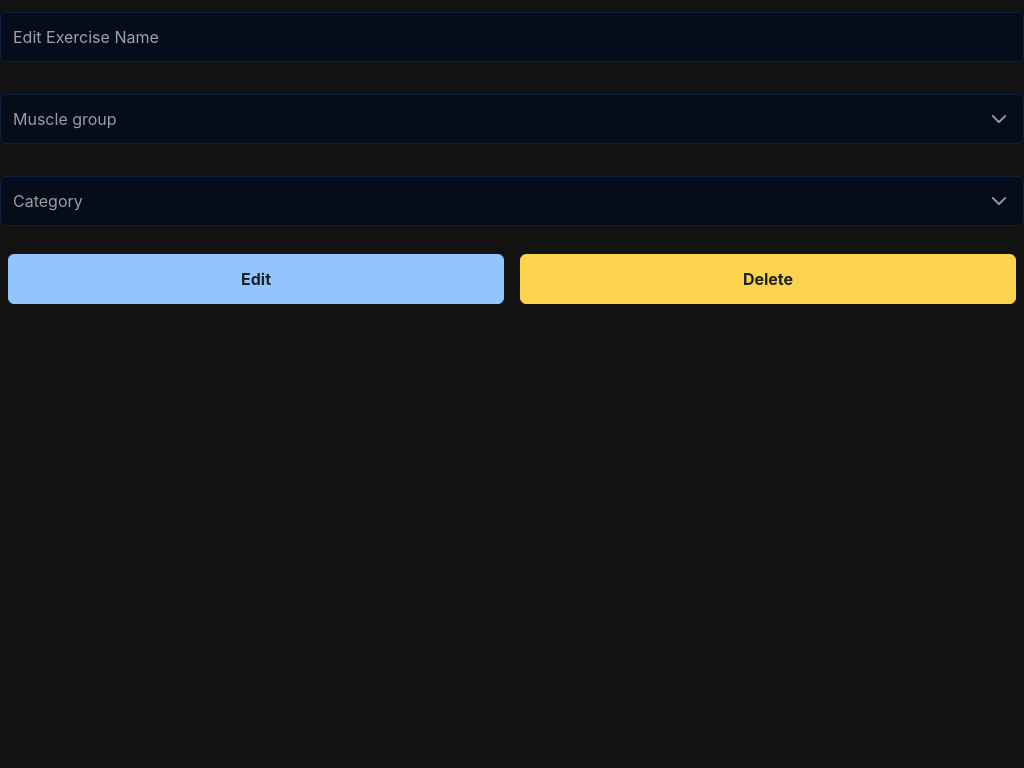
it: Edit Exercise Form › Confrim delete btn renders after first delete btn is clicked
Step 1. Click the button with test id "deleteExerciseSubmitBtn" → click(768, 279), box [520,254,1016,304]
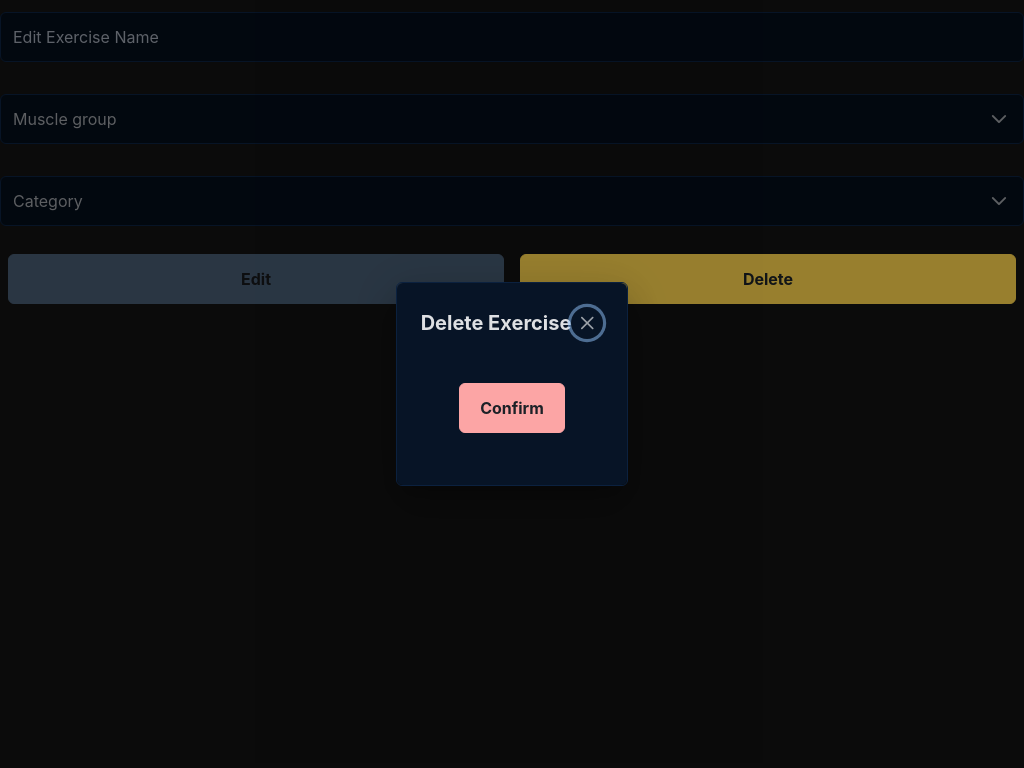
expect the button with test id "confirmDelteExerciseBtn" is shown: met, box [459,383,565,433]
